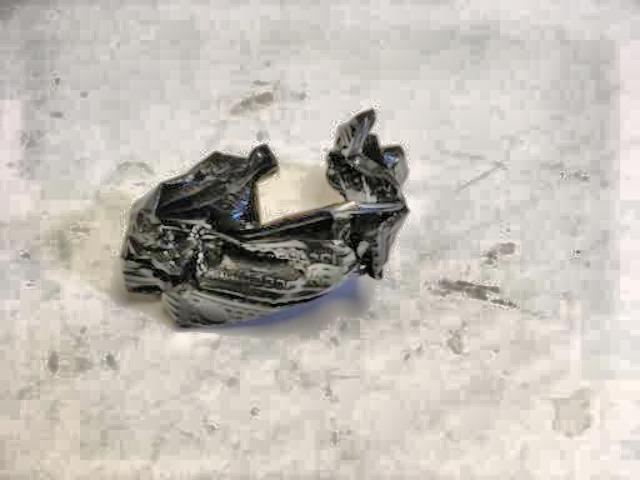Plastic: (102, 97, 425, 350)
